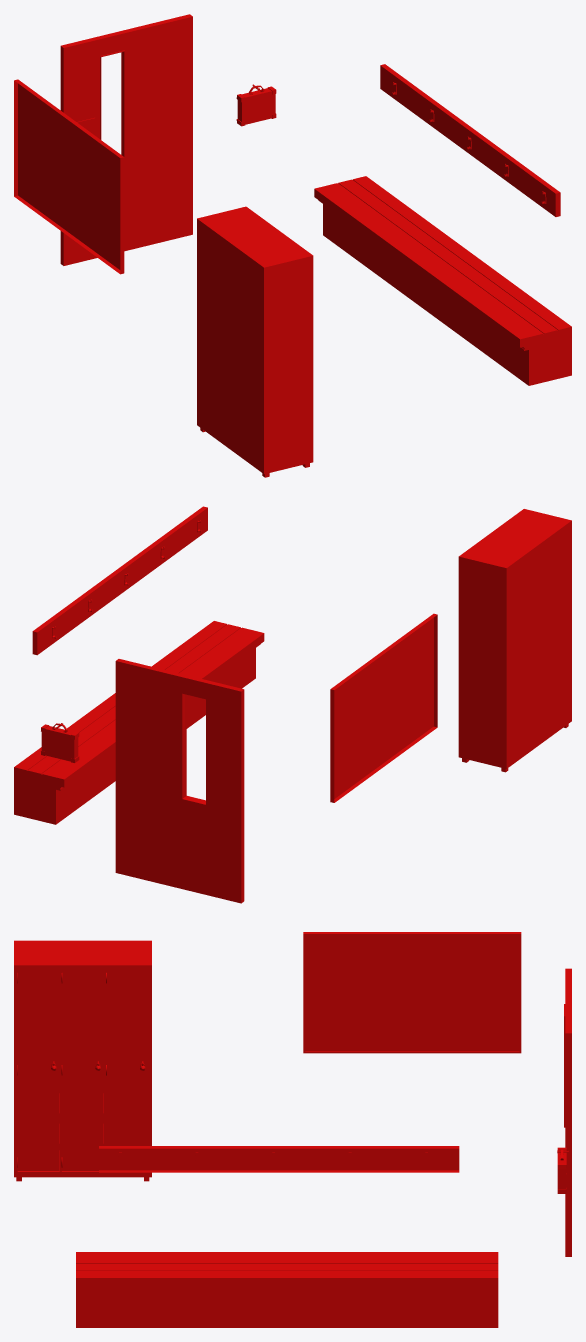
The model's file is LockerRoomProps.fbx.
3 renders of one model, top to bottom at view 1: azimuth 30°, elevation 25°; view 2: azimuth 150°, elevation 25°; view 3: azimuth 270°, elevation 25°, orthographic. The views are drawn at different scales.
Parts seen in each view (by area): view 1: Locker_01, Bench, Door, Whiteboard, ClothingRack, first_aid; view 2: Door, Locker_01, Whiteboard, Bench, ClothingRack, first_aid; view 3: Bench, Locker_01, Whiteboard, ClothingRack, Door.
Part boxes in pixels (<box>): Locker_01: <box>197,206,313,477</box>; Bench: <box>314,176,571,385</box>; Door: <box>60,14,192,265</box>; Whiteboard: <box>14,79,124,274</box>; ClothingRack: <box>380,64,560,216</box>; first_aid: <box>236,84,276,126</box>; Door: <box>115,659,244,903</box>; Locker_01: <box>458,509,571,772</box>; Whiteboard: <box>330,613,437,802</box>; Bench: <box>14,621,264,824</box>; ClothingRack: <box>32,506,207,655</box>; first_aid: <box>41,723,79,762</box>; Bench: <box>76,1252,498,1327</box>; Locker_01: <box>14,940,151,1181</box>; Whiteboard: <box>303,932,521,1053</box>; ClothingRack: <box>99,1146,459,1172</box>; Door: <box>564,968,571,1256</box>.
Size of the model in its own units: 345 by 212 by 477.
